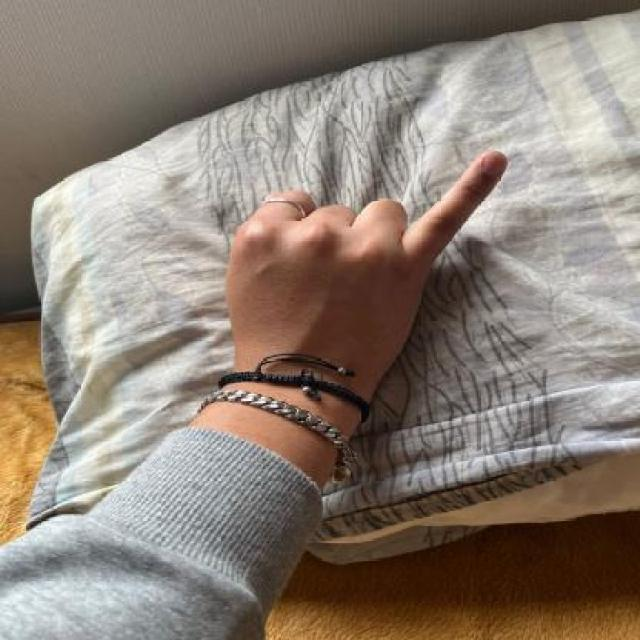J: (222, 144, 510, 365)
